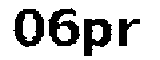0: (10, 5, 45, 49)
6: (46, 3, 81, 51)
p: (80, 13, 113, 60)
r: (118, 15, 144, 50)
